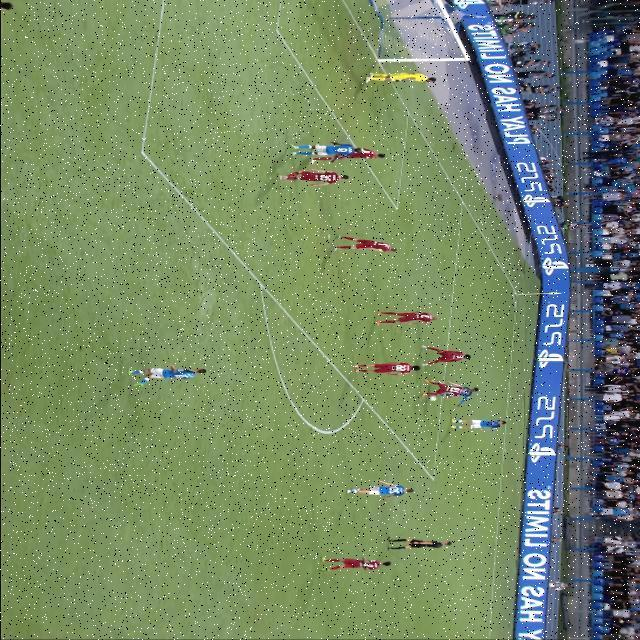ball: (428, 397, 439, 403)
player: (125, 367, 217, 389), (320, 554, 390, 579), (332, 233, 392, 257), (284, 169, 356, 188), (353, 360, 423, 379), (418, 345, 472, 369), (340, 478, 418, 494), (317, 145, 385, 163), (454, 414, 510, 434), (295, 142, 357, 158), (377, 312, 437, 328), (431, 378, 467, 396)
referee: (384, 537, 454, 552)
